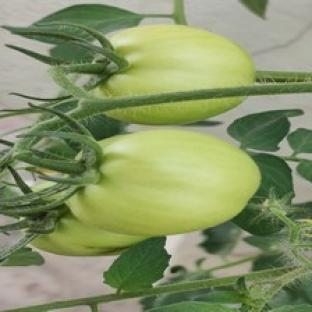Tomato: (67, 130, 260, 236), (94, 26, 254, 97), (33, 212, 147, 256)
